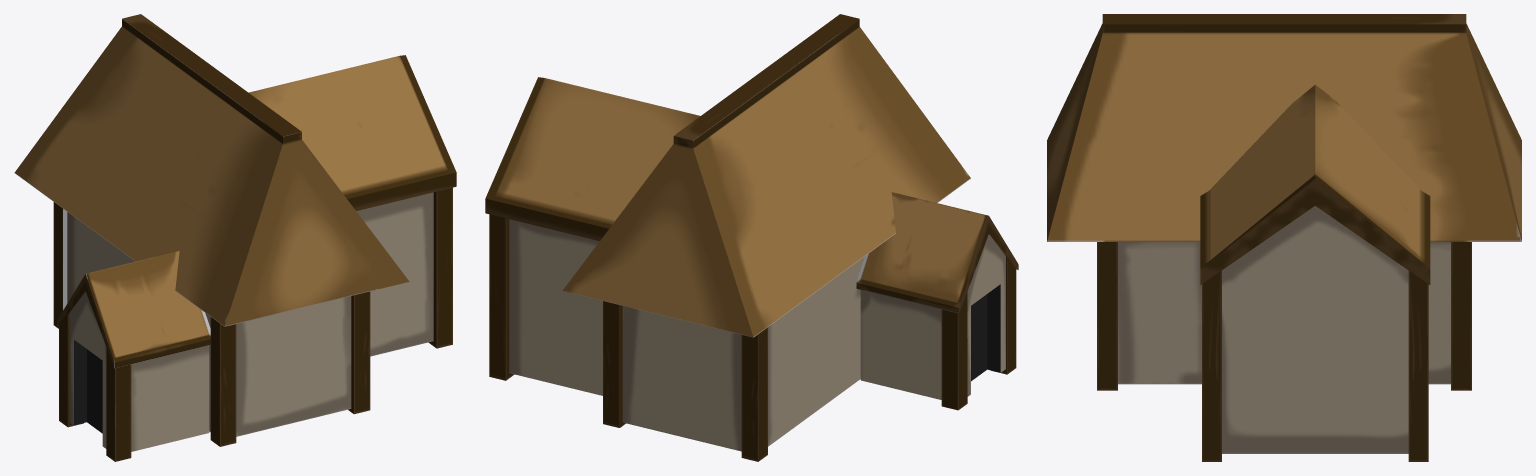
The model's file is casaANAOZAO.fbx.
The picture shows the model from 3 angles, left to right: view 1: azimuth 30°, elevation 25°; view 2: azimuth 150°, elevation 25°; view 3: azimuth 270°, elevation 25°; orthographic projection. The views are drawn at different scales.
Visible parts, largest first — view 1: c2_low, c3_low, c1_low, t2_low, t1_low, t3_low; view 2: c2_low, c3_low, c1_low, t2_low, t1_low, t3_low; view 3: c2_low, c3_low, t3_low, t2_low.
Boxes of the visible parts, left/top/right/bottom form: c2_low: left=14, top=14, right=409, bottom=436; c3_low: left=249, top=55, right=456, bottom=356; c1_low: left=57, top=251, right=210, bottom=451; t2_low: left=53, top=202, right=370, bottom=446; t1_low: left=59, top=313, right=131, bottom=461; t3_low: left=428, top=187, right=452, bottom=348; c2_low: left=562, top=14, right=970, bottom=451; c3_low: left=485, top=77, right=700, bottom=395; c1_low: left=856, top=192, right=1018, bottom=399; t2_low: left=603, top=301, right=767, bottom=461; t1_low: left=941, top=256, right=1016, bottom=410; t3_low: left=489, top=214, right=514, bottom=380; c2_low: left=1047, top=14, right=1521, bottom=384; c3_low: left=1200, top=84, right=1430, bottom=453; t3_low: left=1202, top=270, right=1428, bottom=461; t2_low: left=1097, top=242, right=1471, bottom=390.
Size of the model in its own units: 1107 by 819 by 1068.
